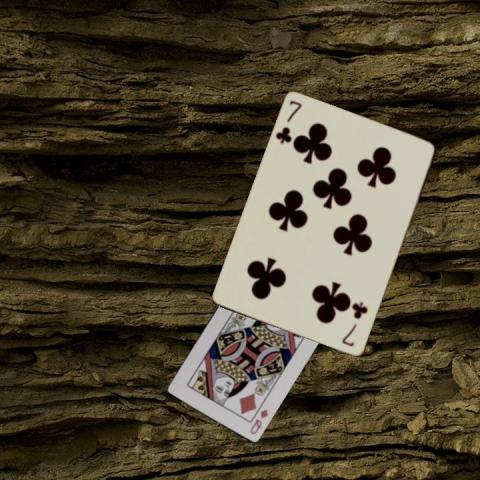7c: (340, 298, 370, 348), (273, 98, 304, 146)
Qd: (247, 406, 269, 435)
